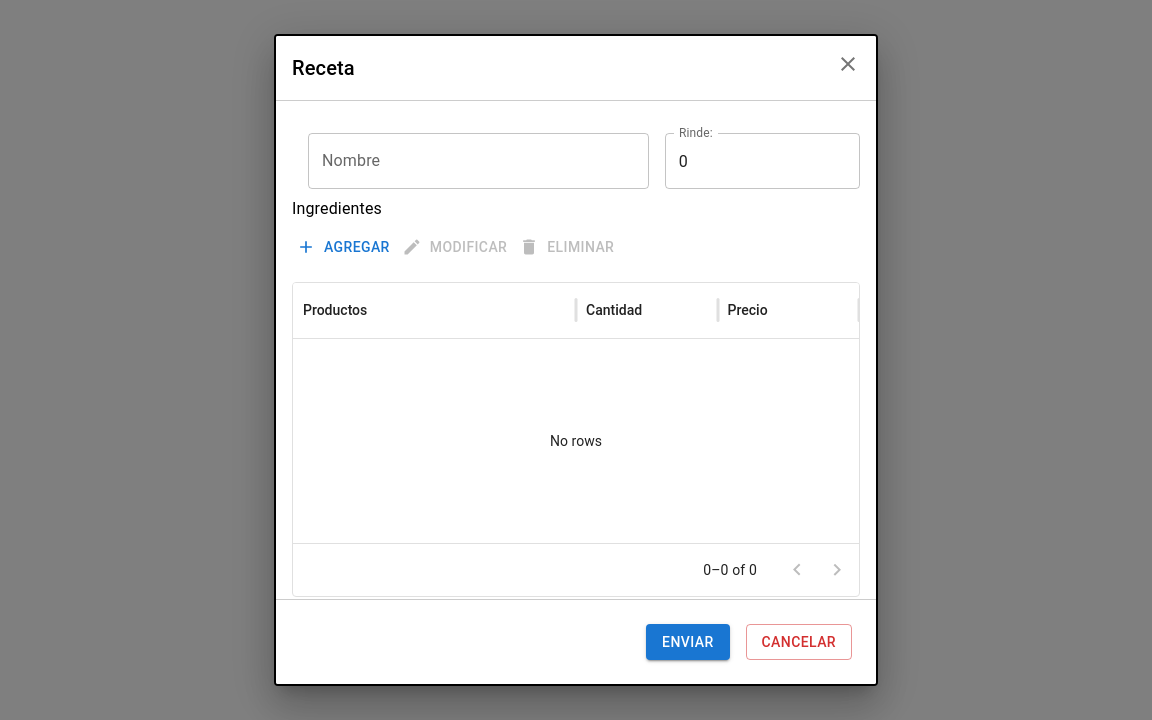
it: RecetaFormModal › debería mostrar error si se envía sin nombre
Click the button with test id "enviar-btn": (688, 642) [646,624,730,660]
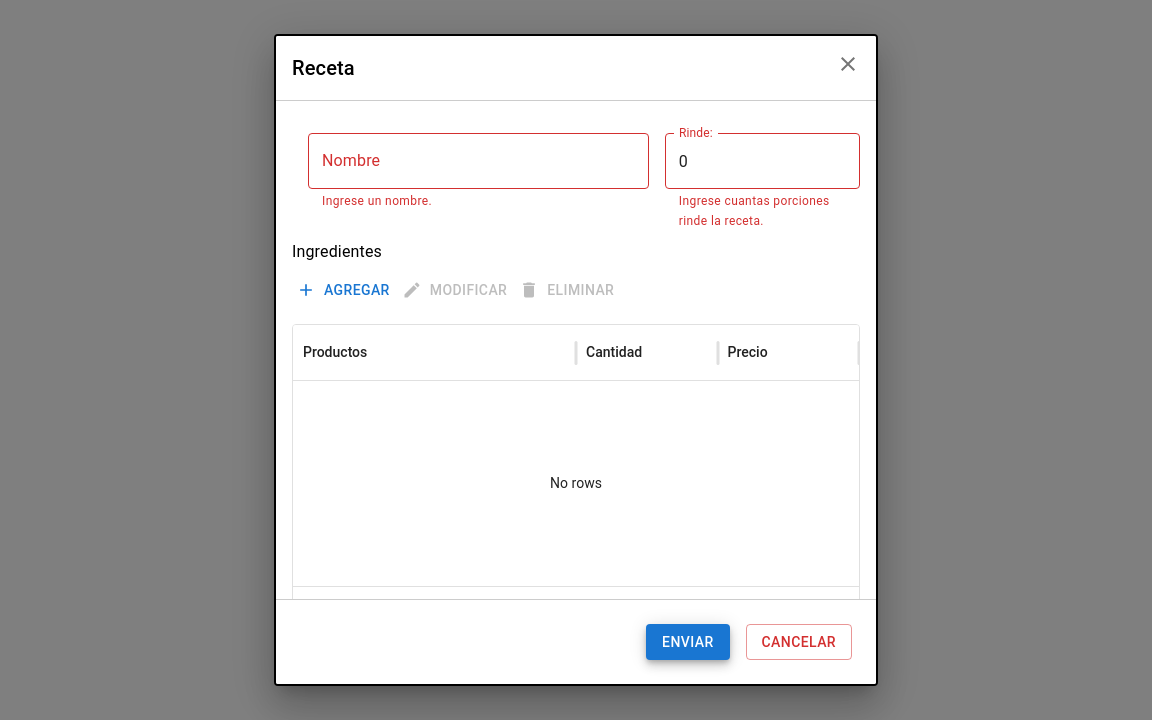
Expected: the text "Ingrese un nombre." is shown, [322,194,432,208]
